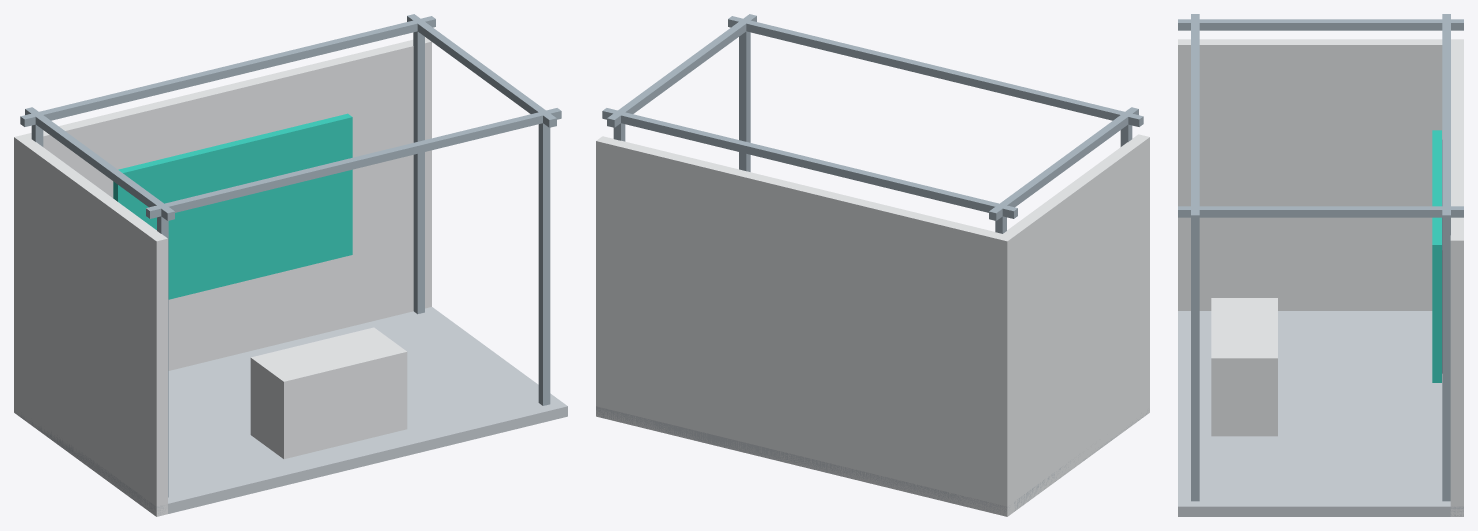
3 views of the same model, side by side, from view 1: azimuth 30°, elevation 25°; view 2: azimuth 150°, elevation 25°; view 3: azimuth 270°, elevation 25° (orthographic).
Visible parts, largest first — view 1: Exhibition Booth Concept; view 2: Exhibition Booth Concept; view 3: Exhibition Booth Concept.
Part boxes in pixels (x1,y1,x2,y2): Exhibition Booth Concept: (14,14,567,516); Exhibition Booth Concept: (596,14,1149,516); Exhibition Booth Concept: (1178,14,1463,516).
Bounding box in the file's own units: 5 × 3.49 × 3.
